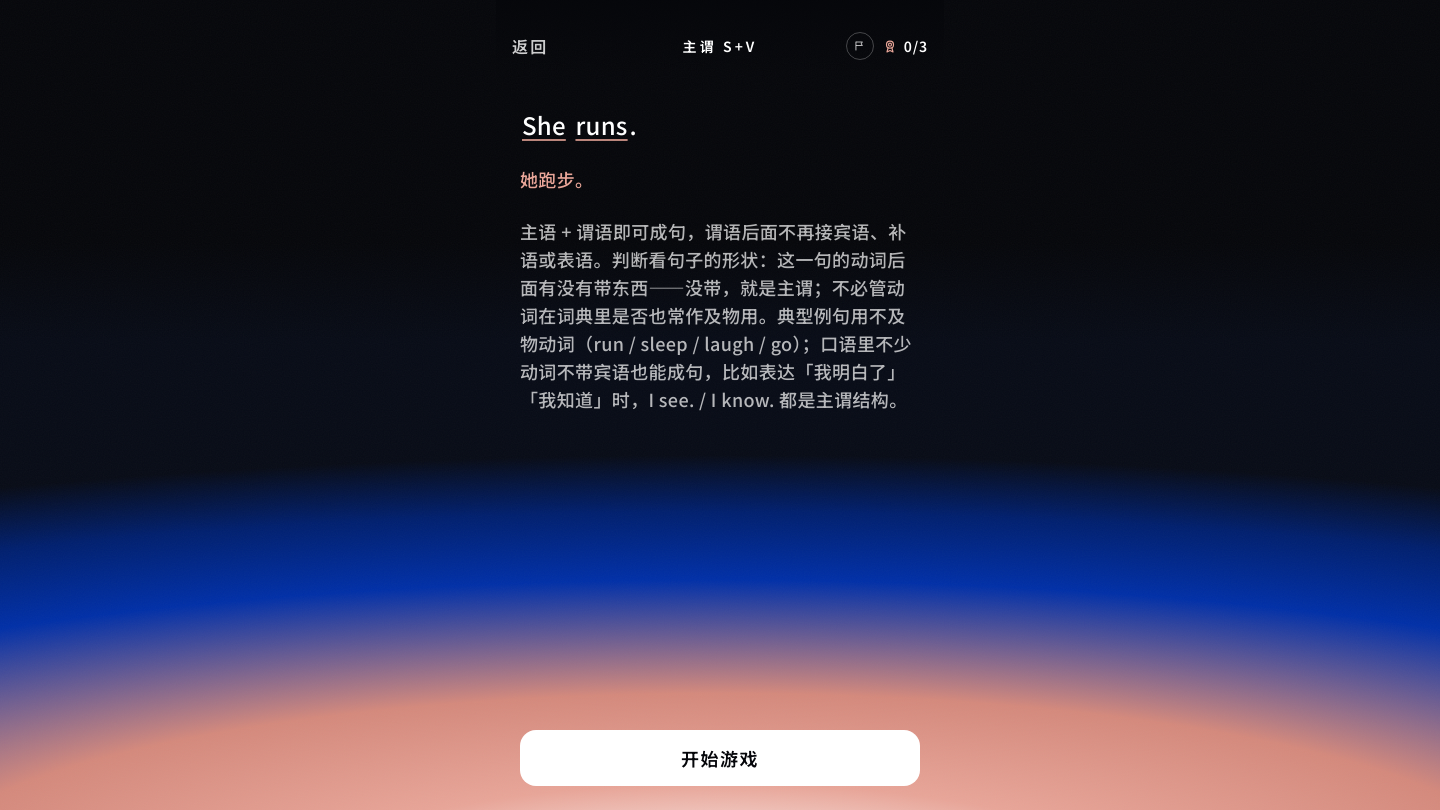
LearnPage report button › opens the dialog with the knowledge-point / example-sentence hint
What coordinates should you click on to do the following:
click the button named "报错本关"
I would click on:
 (860, 46)
Its box is [846,32,874,60].
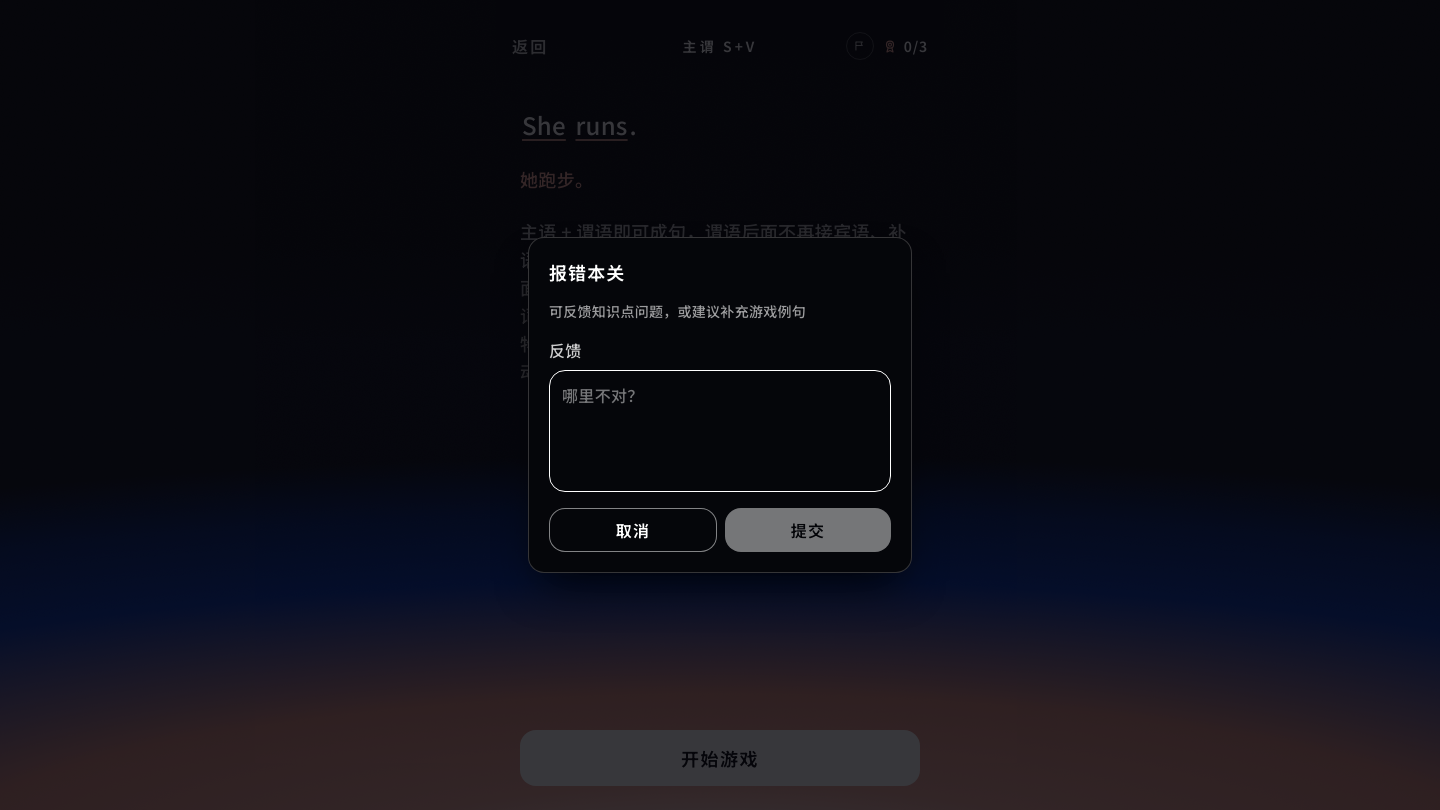
expect the text "可反馈知识点问题，或建议补充游戏例句" is shown: met, box [549,301,806,321]
